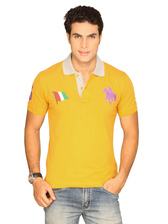clothoes: (26, 52, 142, 191)
